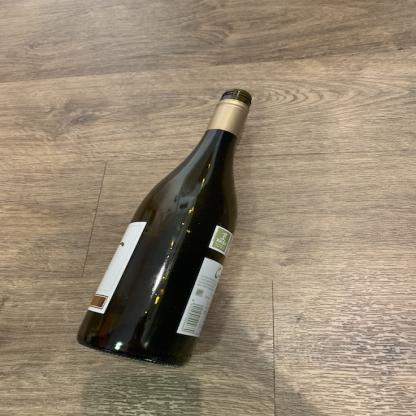trash: (73, 91, 253, 368)
